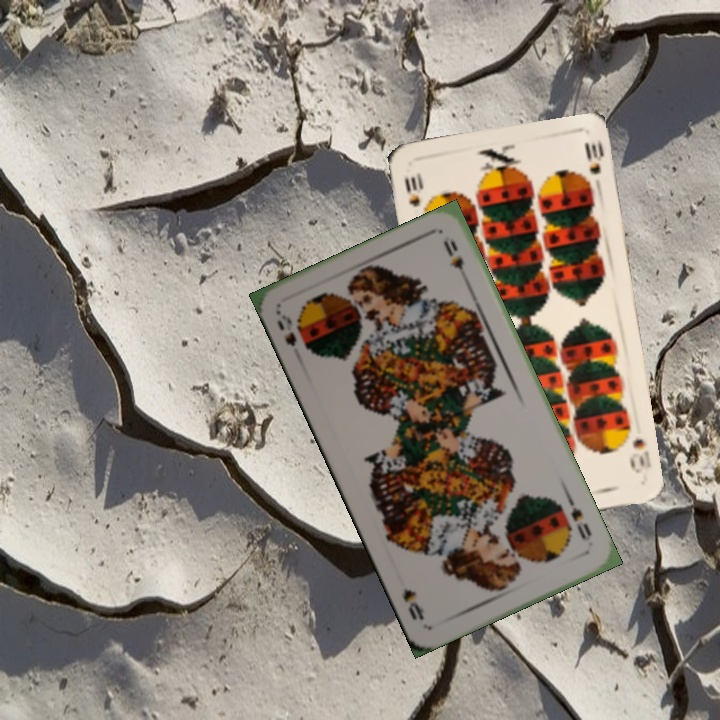S10: (627, 434, 654, 476), (400, 168, 424, 209)
SO: (564, 493, 595, 542), (272, 308, 299, 349)
